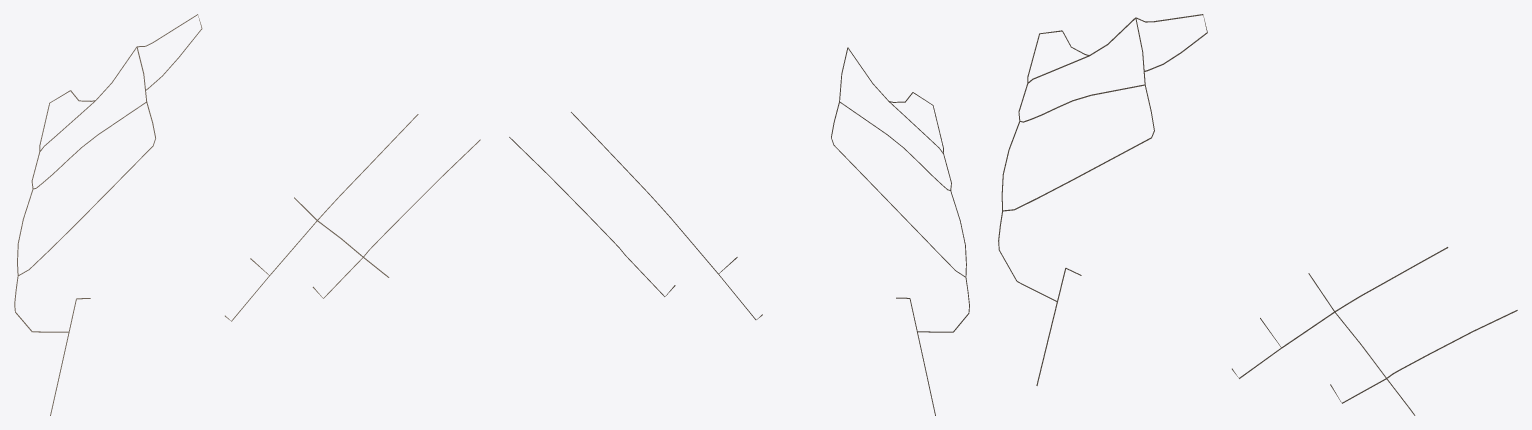
The model's file is farm-field-ridges.glb.
3 renders of one model, left to right at view 1: azimuth 30°, elevation 25°; view 2: azimuth 150°, elevation 25°; view 3: azimuth 330°, elevation 25°, orthographic. The views are drawn at different scales.
Parts seen in each view (by area): view 1: world; view 2: world; view 3: world.
Boxes of the visible parts, x1,y1,x2,y2 form: world: [14, 14, 480, 415]; world: [509, 47, 969, 415]; world: [998, 14, 1517, 415].
Bounding box in the file's own units: 391 × 295 × 5.14.
